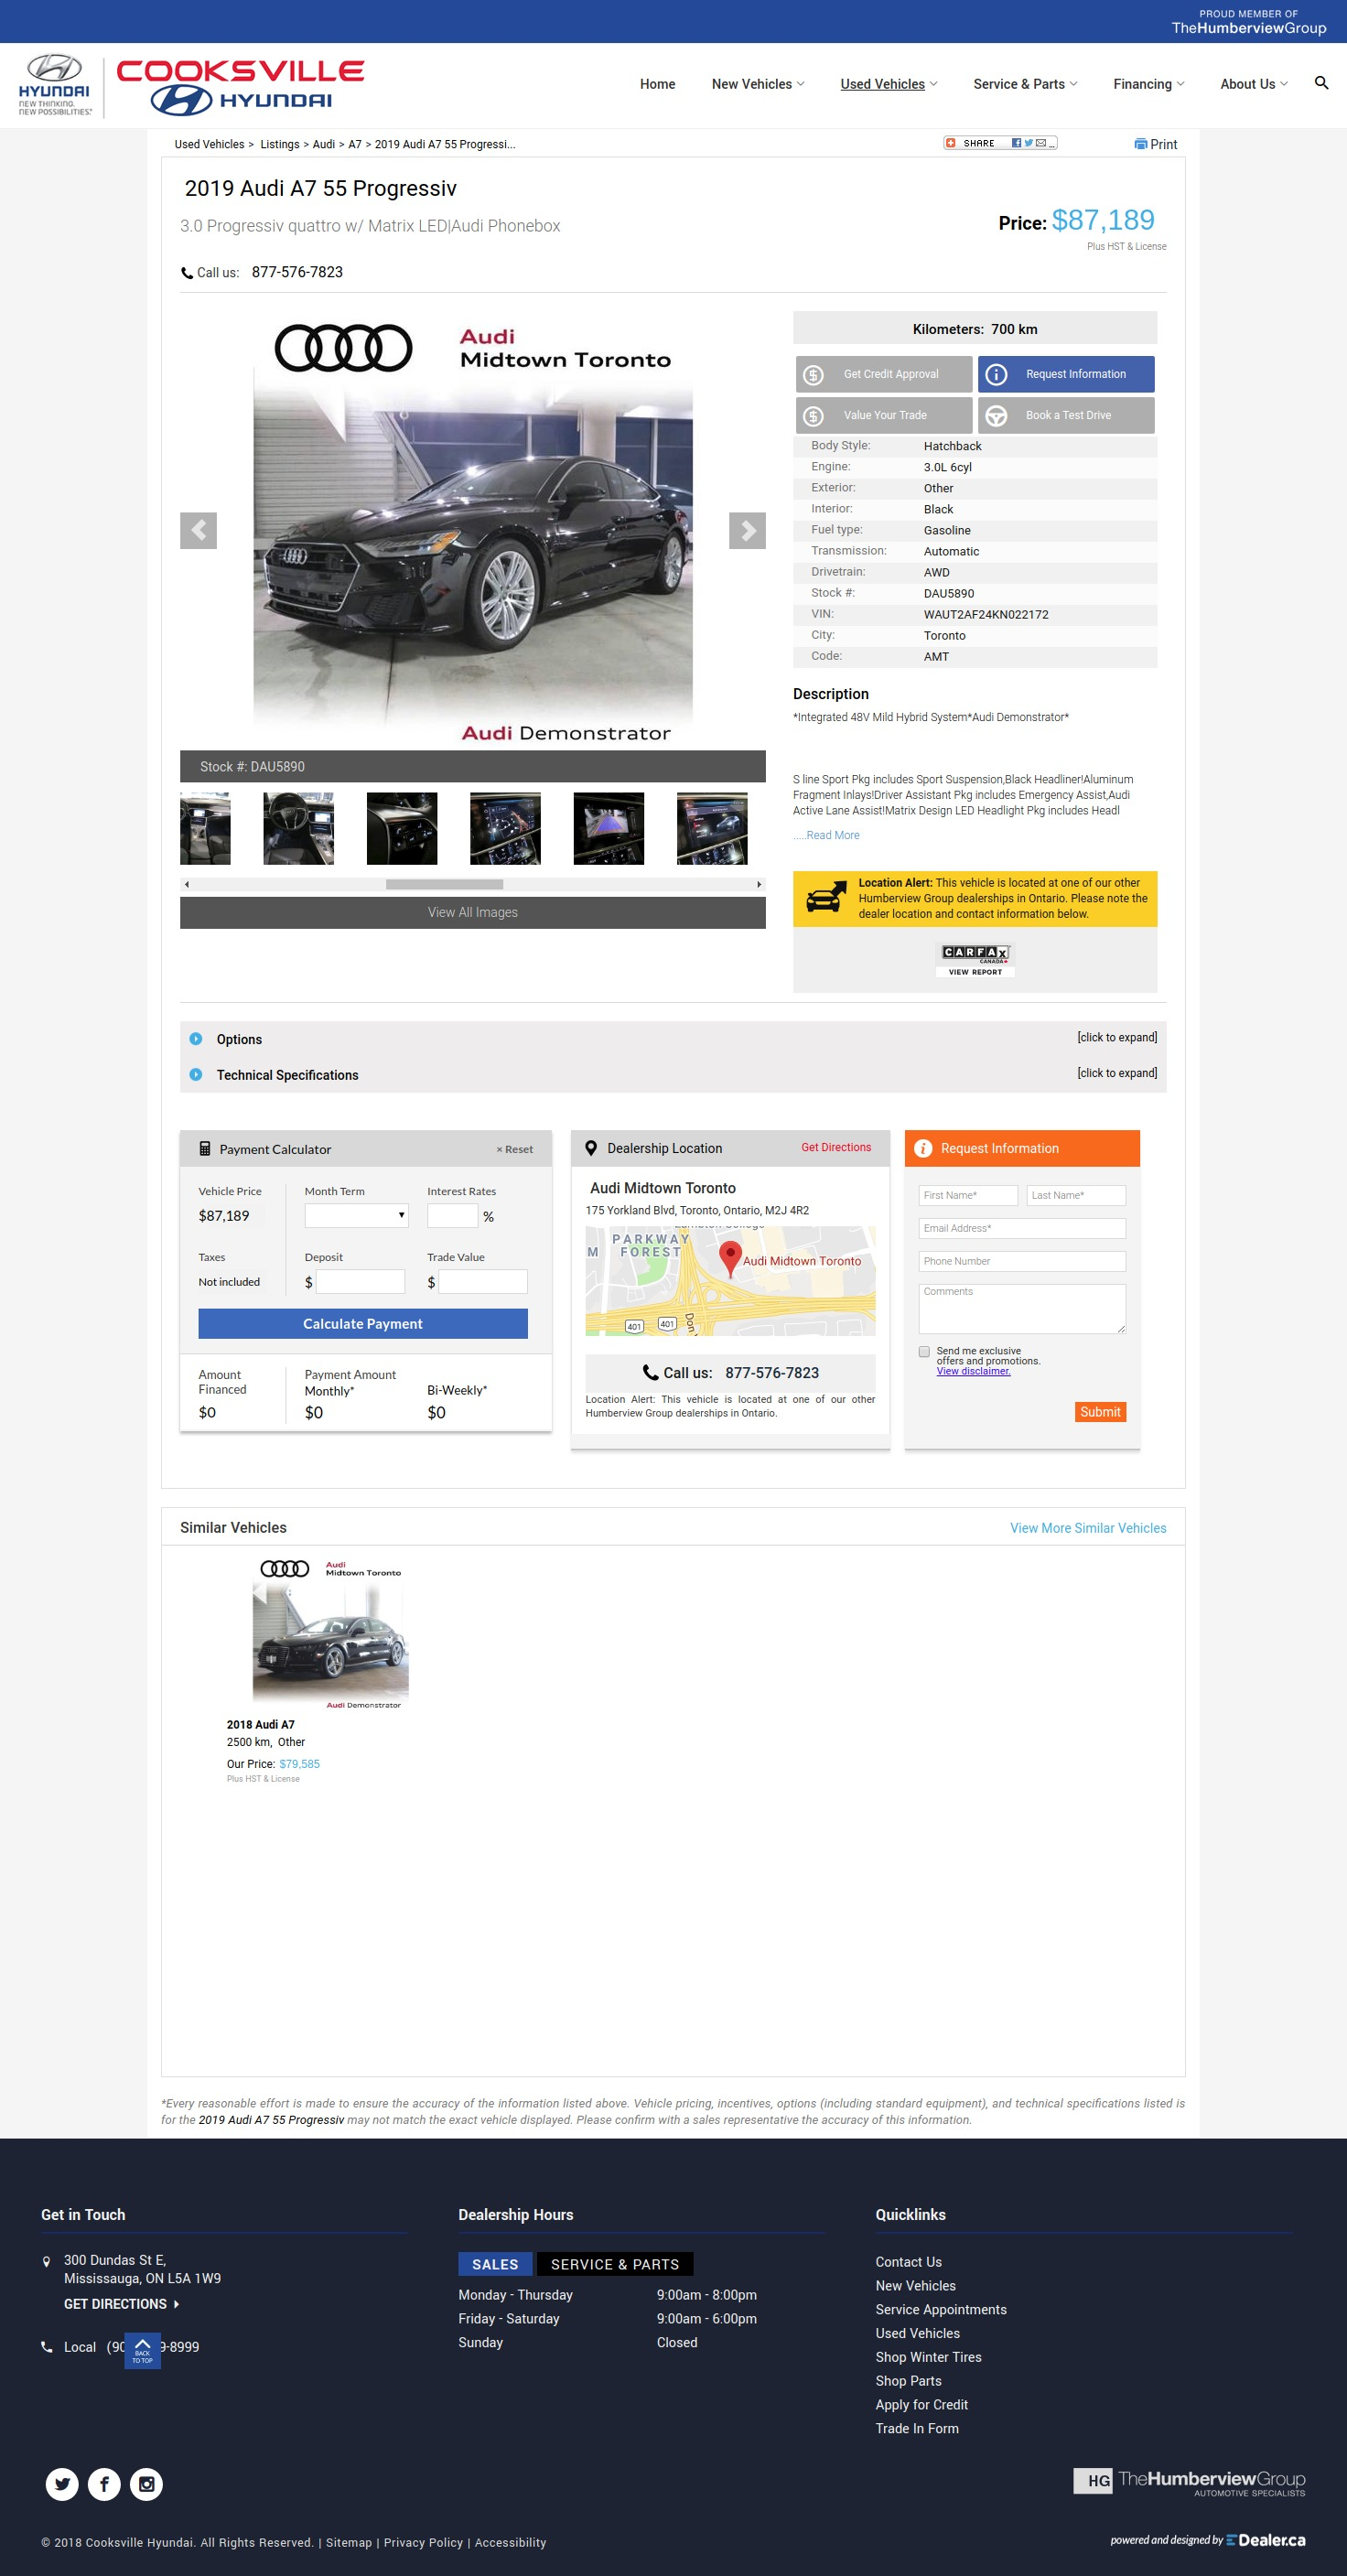car: (758, 881, 763, 889)
